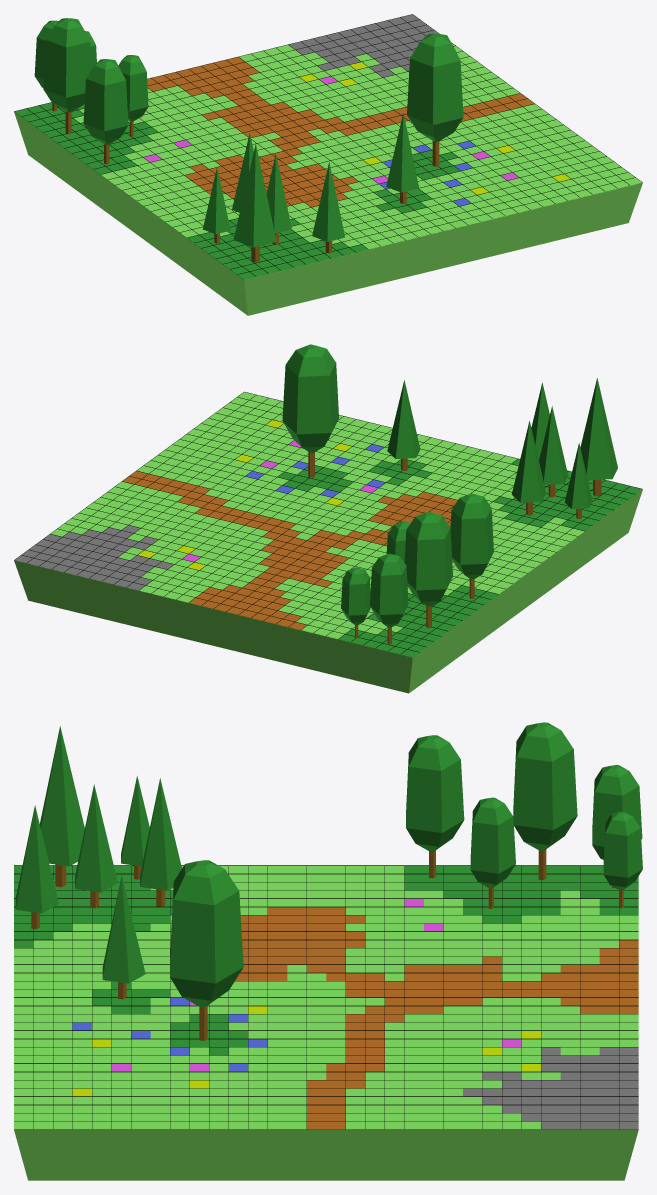
Rendered from Map.fbx.
3 renders of one model, top to bottom at view 1: azimuth 30°, elevation 25°; view 2: azimuth 150°, elevation 25°; view 3: azimuth 270°, elevation 25°, orthographic. The views are drawn at different scales.
Visible parts, largest first — view 1: Map, PoplarTree.001, PoplarTree.003, PoplarTree, PineTree.002, PineTree.003, PineTree.005, PoplarTree.002, PineTree.004, PineTree, PoplarTree.004, PineTree.001; view 2: Map, PoplarTree.001, PoplarTree.003, PoplarTree, PoplarTree.004, PineTree.002, PineTree.001, PineTree.005, PoplarTree.005, PineTree.004, PineTree, PineTree.003 (+1 smaller); view 3: Map, PoplarTree.001, PoplarTree.003, PoplarTree, PineTree.002, PoplarTree.002, PineTree.001, PineTree.003, PineTree.005, PineTree.004, PoplarTree.004, PoplarTree.005 (+1 smaller).
Part boxes in pixels (bbox=[...]): Map: bbox=[14, 14, 642, 315]; PoplarTree.001: bbox=[407, 33, 463, 166]; PoplarTree.003: bbox=[43, 18, 91, 134]; PoplarTree: bbox=[83, 59, 128, 164]; PineTree.002: bbox=[233, 143, 276, 262]; PineTree.003: bbox=[312, 162, 345, 253]; PineTree.005: bbox=[386, 113, 419, 203]; PoplarTree.002: bbox=[118, 55, 148, 136]; PineTree.004: bbox=[266, 154, 291, 244]; PineTree: bbox=[203, 167, 230, 243]; PoplarTree.004: bbox=[34, 20, 58, 111]; PineTree.001: bbox=[232, 132, 253, 212]; Map: bbox=[14, 391, 642, 693]; PoplarTree.001: bbox=[282, 344, 338, 477]; PoplarTree.003: bbox=[404, 512, 452, 628]; PoplarTree: bbox=[450, 493, 493, 598]; PoplarTree.004: bbox=[370, 553, 408, 644]; PineTree.002: bbox=[580, 378, 617, 496]; PineTree.001: bbox=[511, 421, 546, 515]; PineTree.005: bbox=[387, 380, 420, 470]; PoplarTree.005: bbox=[341, 567, 370, 638]; PineTree.004: bbox=[539, 406, 568, 497]; PineTree: bbox=[564, 442, 592, 518]; PineTree.003: bbox=[531, 382, 549, 459]; Map: bbox=[14, 865, 638, 1180]; PoplarTree.001: bbox=[170, 860, 243, 1040]; PoplarTree.003: bbox=[513, 722, 577, 880]; PoplarTree: bbox=[406, 735, 464, 878]; PineTree.002: bbox=[39, 726, 84, 887]; PoplarTree.002: bbox=[470, 797, 515, 908]; PineTree.001: bbox=[140, 778, 181, 907]; PineTree.003: bbox=[15, 805, 58, 929]; PineTree.005: bbox=[102, 875, 145, 999]; PineTree.004: bbox=[75, 784, 117, 908]; PoplarTree.004: bbox=[592, 765, 642, 887]; PoplarTree.005: bbox=[603, 811, 642, 908].
Bounding box in the file's own units: 2015 × 822 × 2014.
